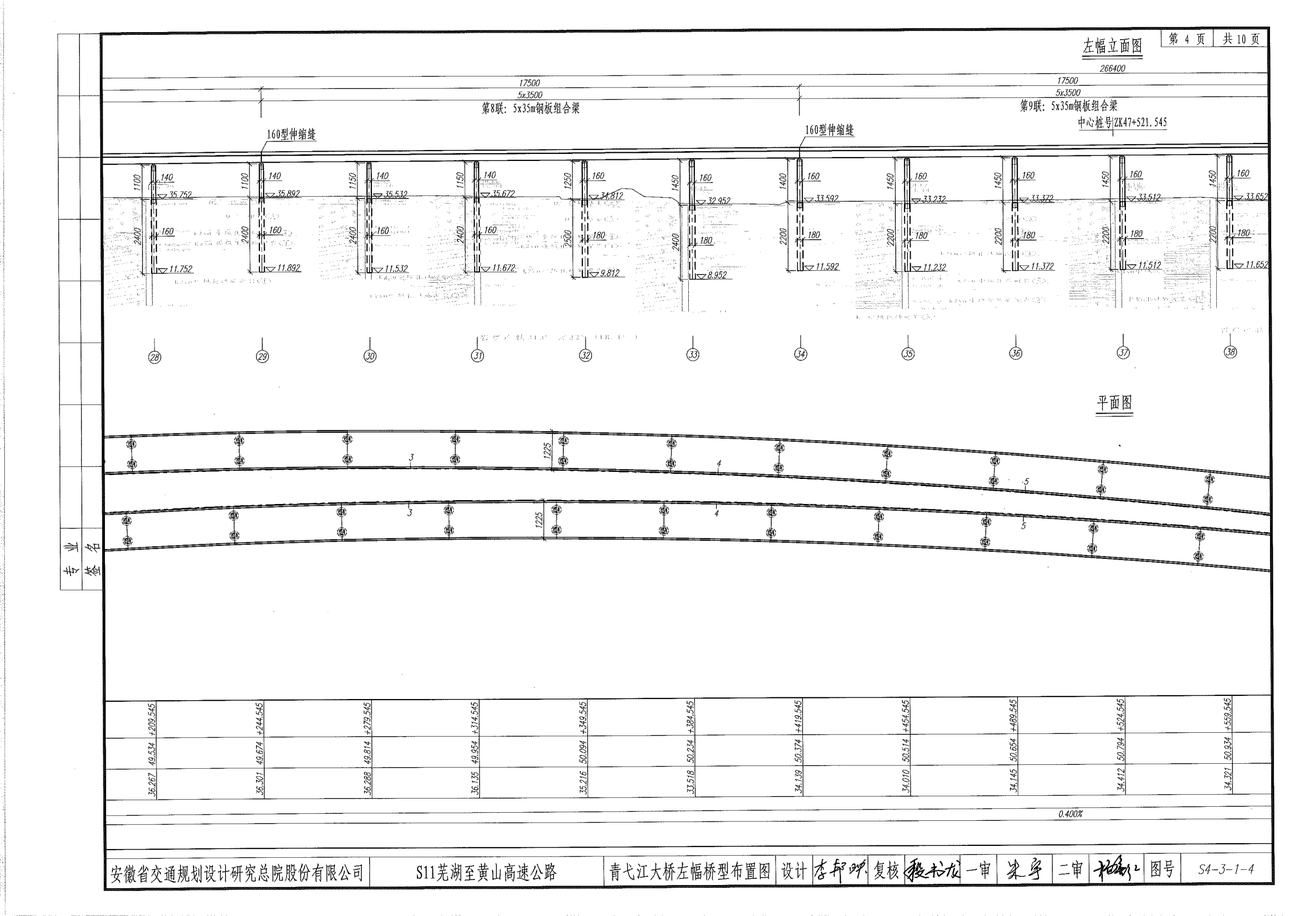A: (65, 34, 1277, 378)
